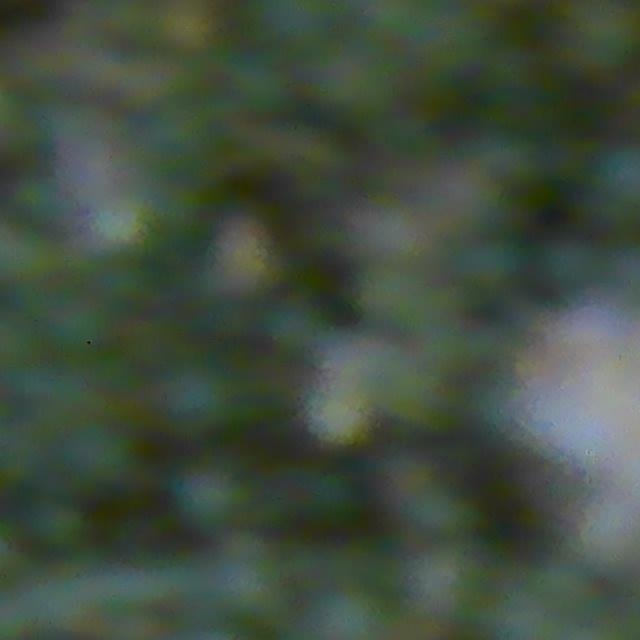SeaGrape: (400, 542, 484, 623), (560, 0, 640, 73), (60, 417, 136, 492), (525, 369, 588, 459), (160, 360, 235, 433), (173, 460, 250, 529), (305, 586, 389, 640), (558, 320, 621, 379), (588, 506, 640, 559)
